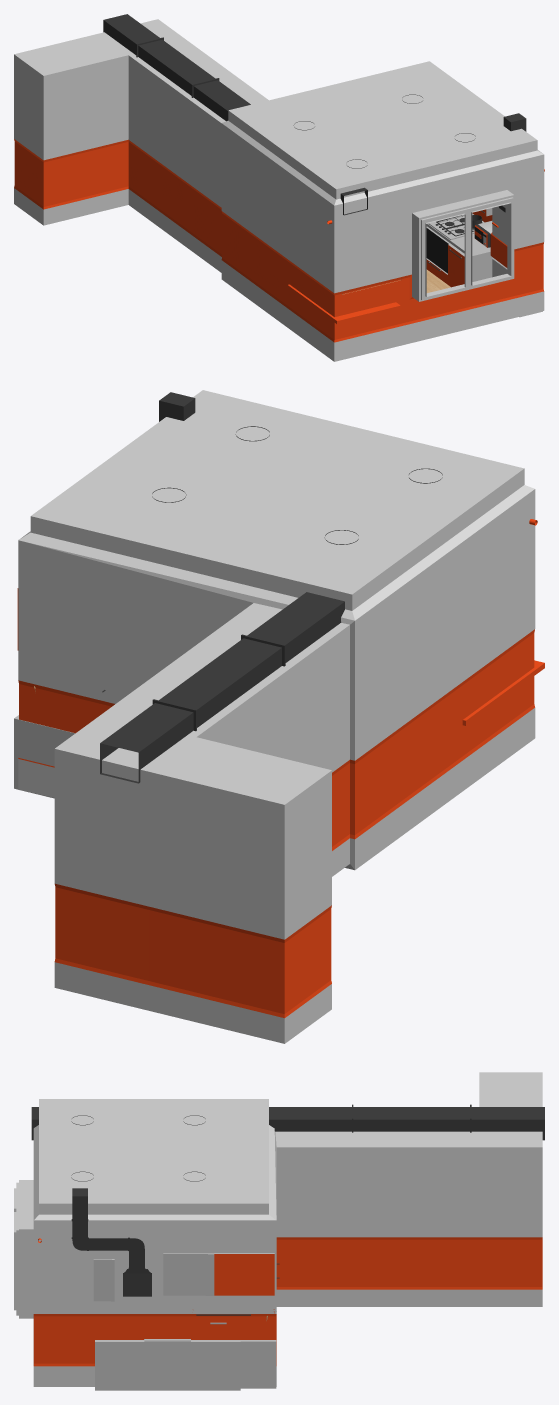
File: kitchen.FBX
3 views of the same model, one above another, from view 1: azimuth 30°, elevation 25°; view 2: azimuth 150°, elevation 25°; view 3: azimuth 270°, elevation 25° (orthographic). The views are drawn at different scales.
Visible parts, largest first — view 1: room, vent, plate, ice, table; view 2: room, vent, sink, exhaust, table; view 3: room, plate, vent, exhaust, cupboard2, cupboard3, sink, cupboard4.
Boxes of the visible parts, <box> form: room: <box>14,19,544,361</box>; vent: <box>103,14,367,215</box>; plate: <box>426,213,492,287</box>; ice: <box>490,204,542,317</box>; table: <box>287,284,400,324</box>; room: <box>18,390,535,1043</box>; vent: <box>100,592,344,783</box>; sink: <box>14,715,74,798</box>; exhaust: <box>159,392,195,421</box>; table: <box>462,660,544,725</box>; room: <box>14,1072,542,1386</box>; plate: <box>95,1339,240,1390</box>; vent: <box>31,1104,544,1140</box>; exhaust: <box>71,1188,151,1296</box>; cupboard2: <box>214,1253,274,1295</box>; cupboard3: <box>163,1253,214,1295</box>; sink: <box>240,1340,276,1388</box>; cupboard4: <box>93,1259,114,1301</box>.
Size of the model in its own units: 223 by 138 by 325.
